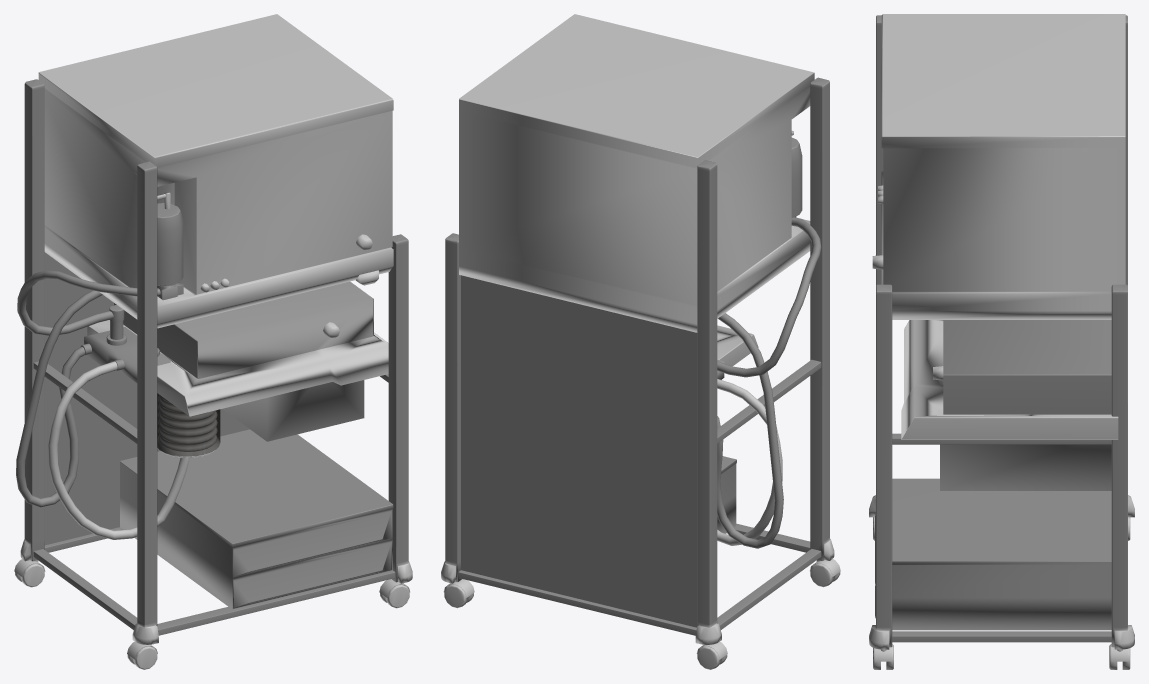
The model's file is ekg.fbx.
The picture shows the model from 3 angles, left to right: view 1: azimuth 30°, elevation 25°; view 2: azimuth 150°, elevation 25°; view 3: azimuth 270°, elevation 25°; orthographic projection. The views are drawn at different scales.
Parts seen in each view (by area): view 1: Mesh; view 2: Mesh; view 3: Mesh.
Boxes of the visible parts, x1,y1,x2,y2 form: Mesh: (14, 14, 412, 669); Mesh: (441, 14, 840, 669); Mesh: (869, 14, 1134, 669).
Bounding box in the file's own units: 98.76 × 151 × 68.6.
